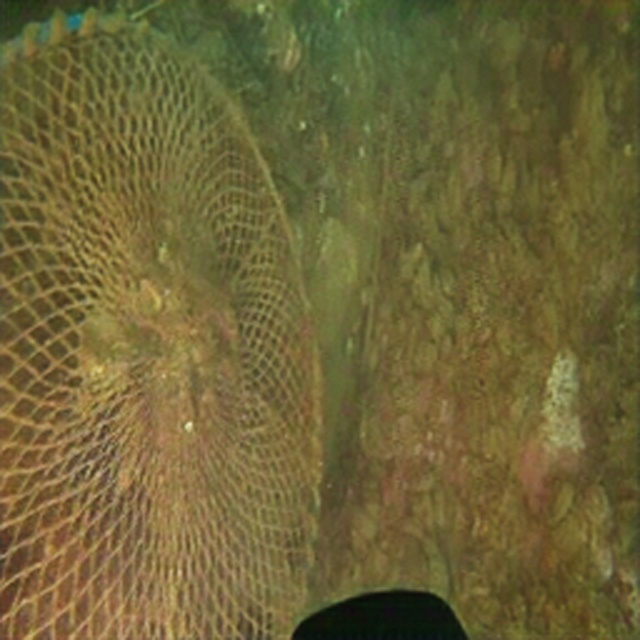mine: (0, 10, 321, 639)
